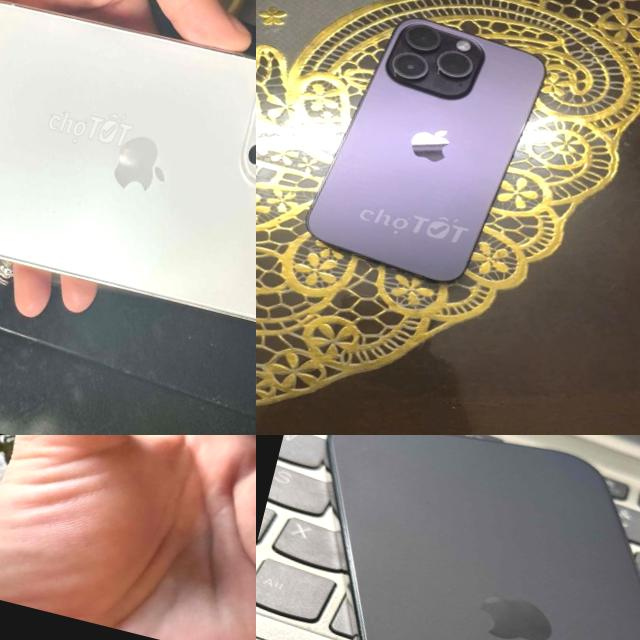gen_12_13: (0, 0, 256, 345)
gen_14: (286, 0, 561, 307)
gen_15: (256, 435, 640, 640)
